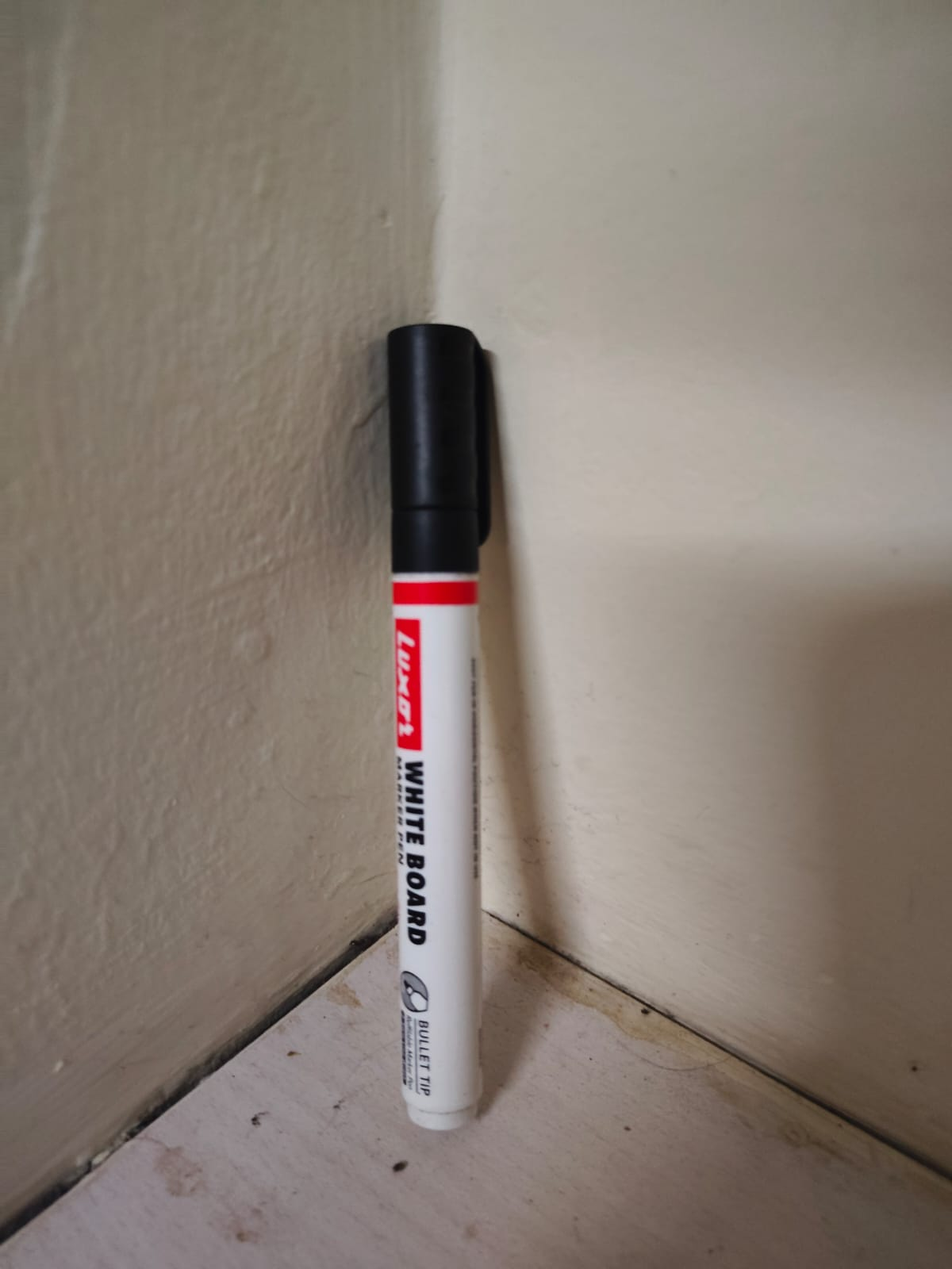case: (297, 284, 603, 1145)
